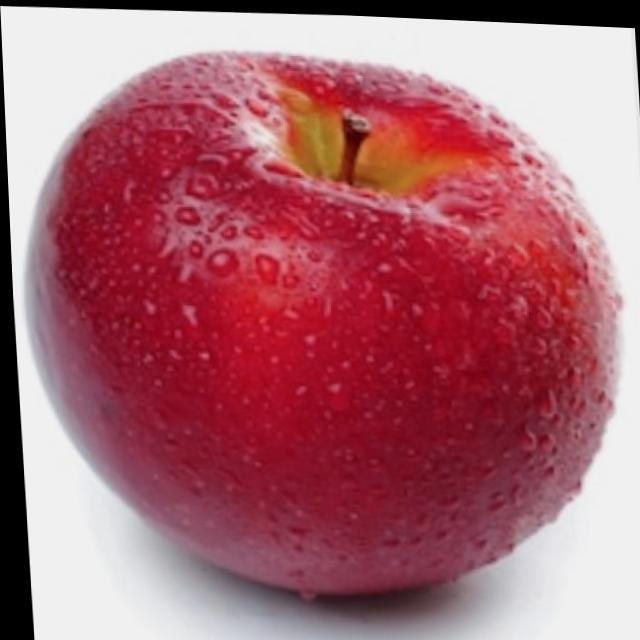Apple: (6, 30, 639, 614)
